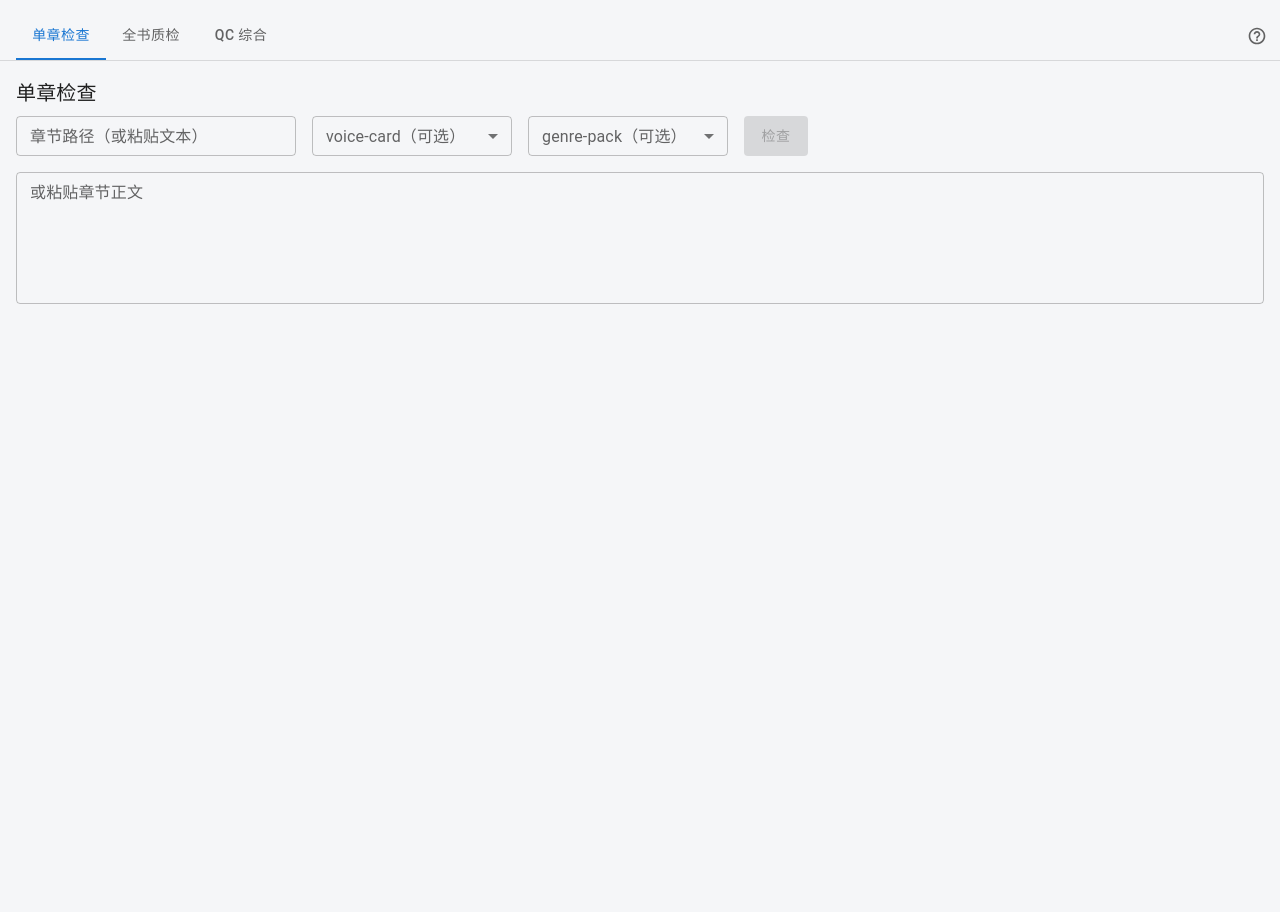
Test: BookQualityPanel 截断提示 › 响应未截断但超过面板行数（30 条）时，仍提示仅显示前 20 条
Click the tab "全书质检" at {"x": 151, "y": 36}, box x1=106 y1=12 x2=196 y2=60
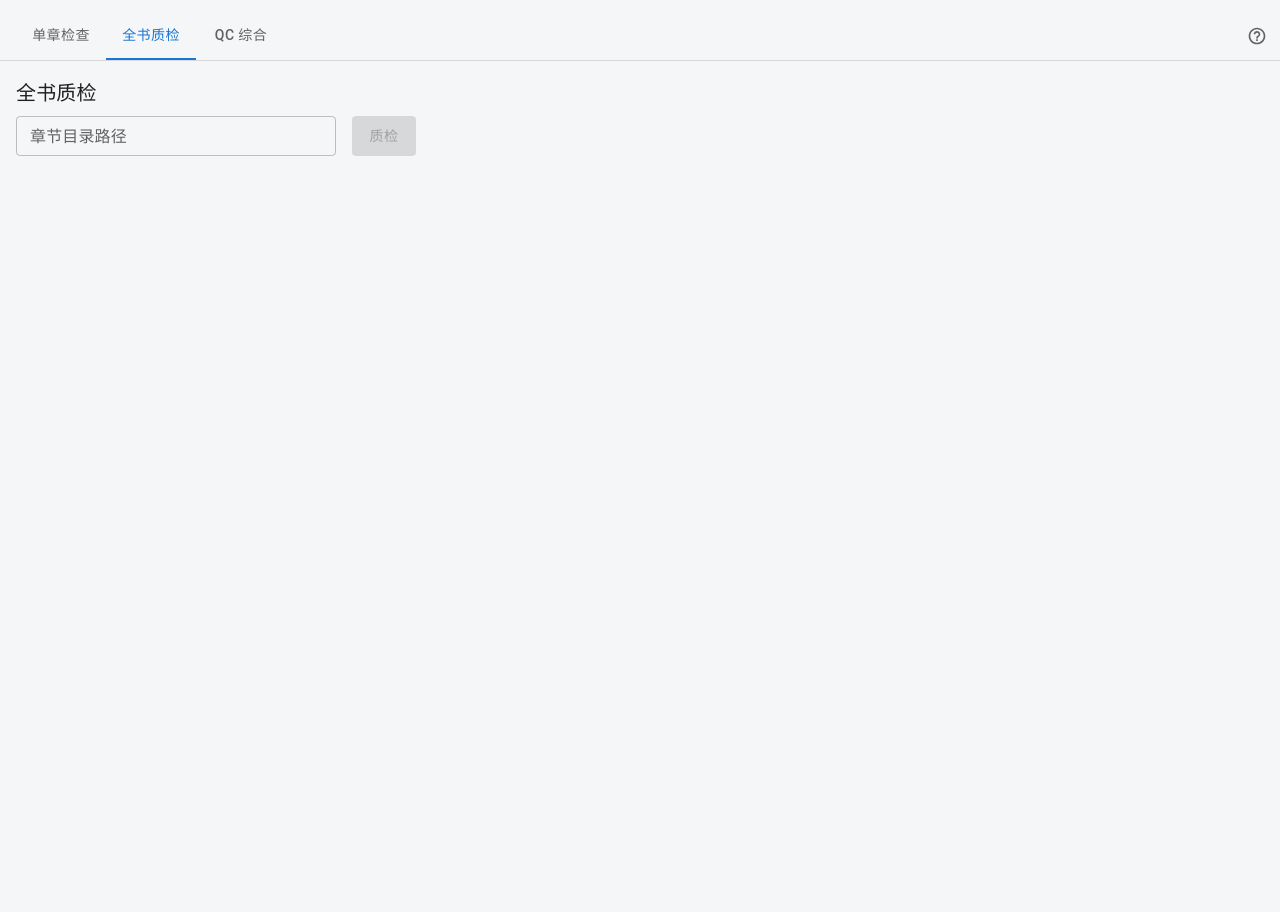
Type "chapters" into the field labelled "章节目录路径" at {"x": 176, "y": 136}, box x1=16 y1=116 x2=336 y2=156
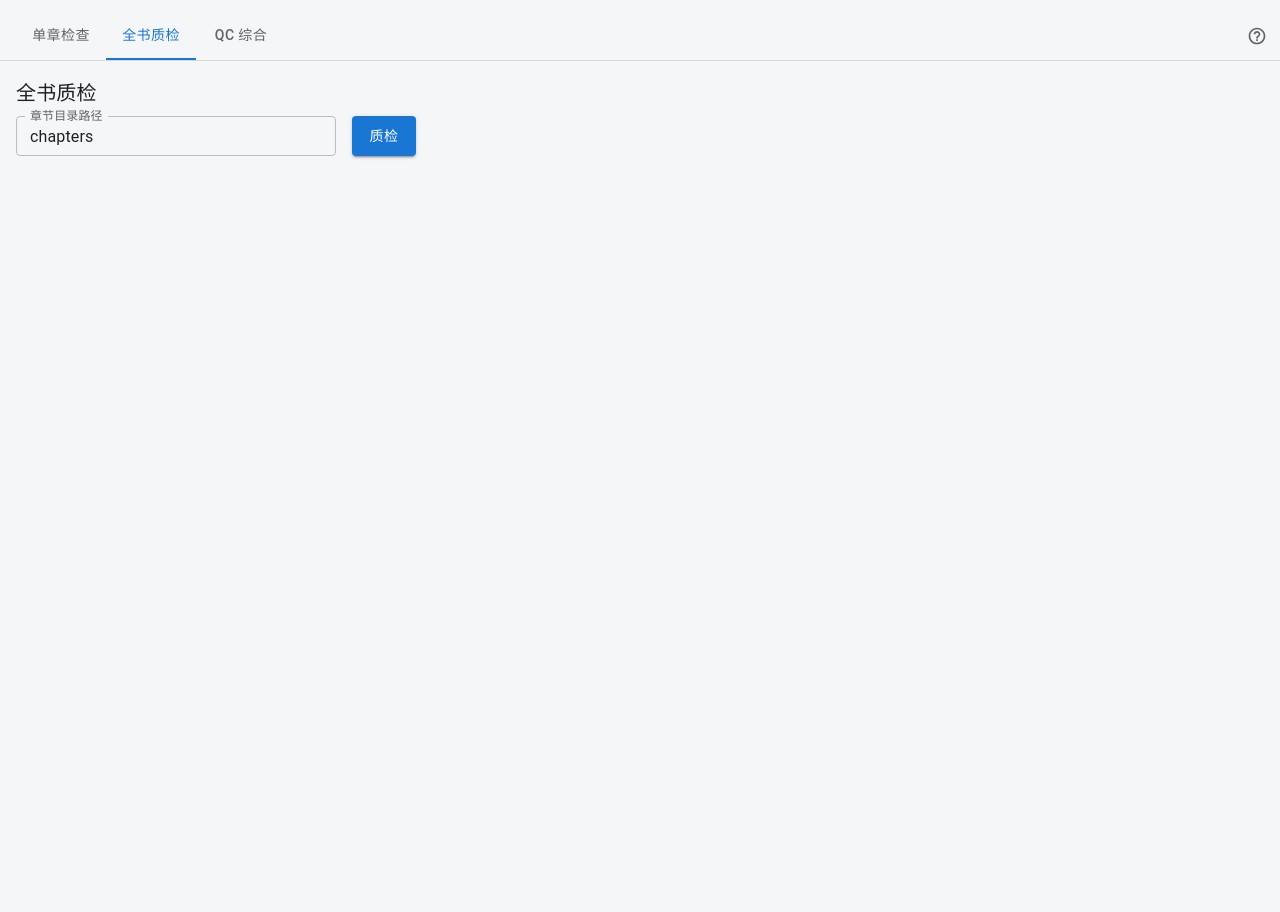
Click the button "质检" at {"x": 384, "y": 136}, box x1=352 y1=116 x2=416 y2=156
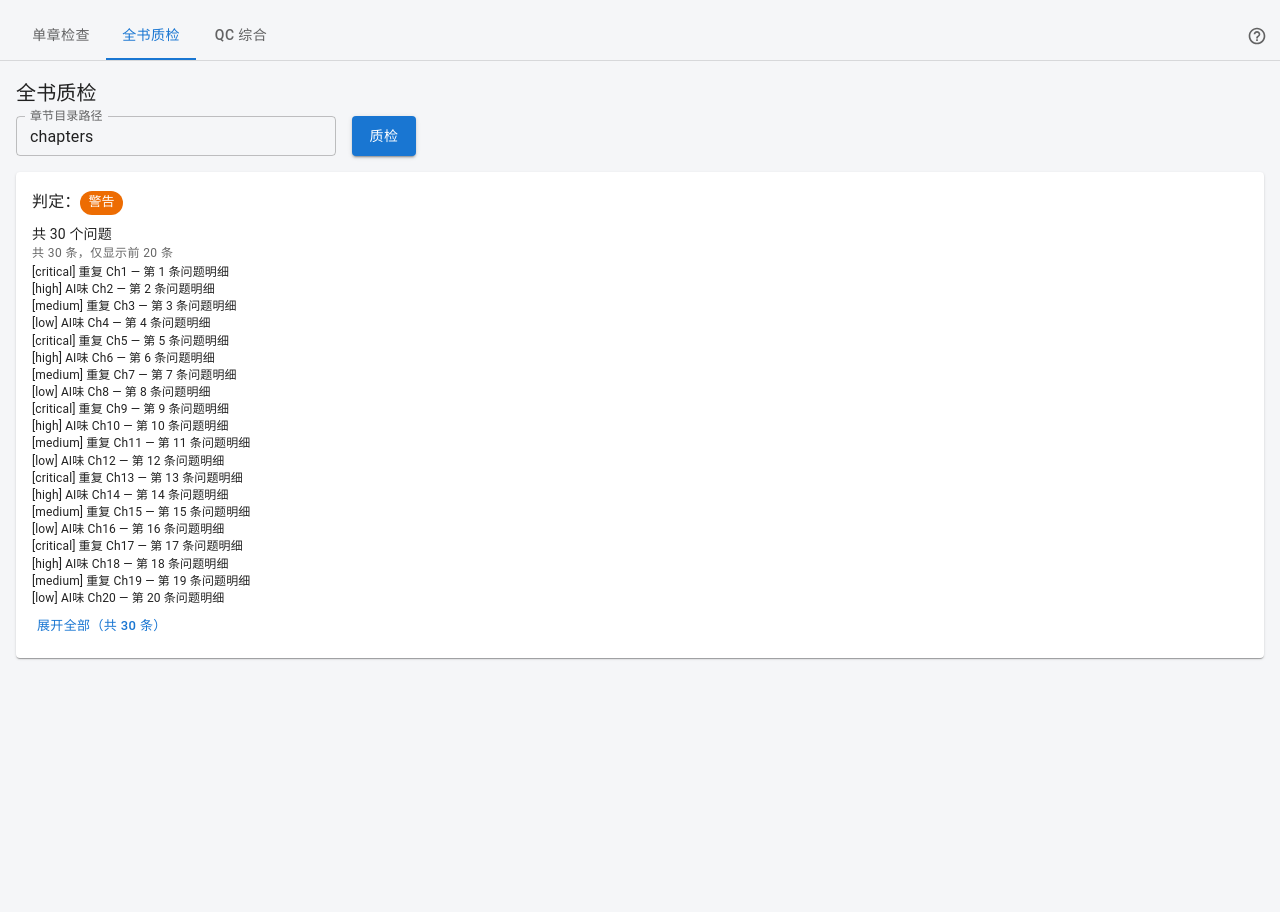
Expected: the text "共 30 个问题" is shown, x1=32 y1=226 x2=112 y2=242
Expected: the text "共 30 条，仅显示前 20 条" is shown, x1=32 y1=246 x2=173 y2=260
Expected: the text "[critical] 重复 Ch1 — 第 1 条问题明细" is shown 20 times
